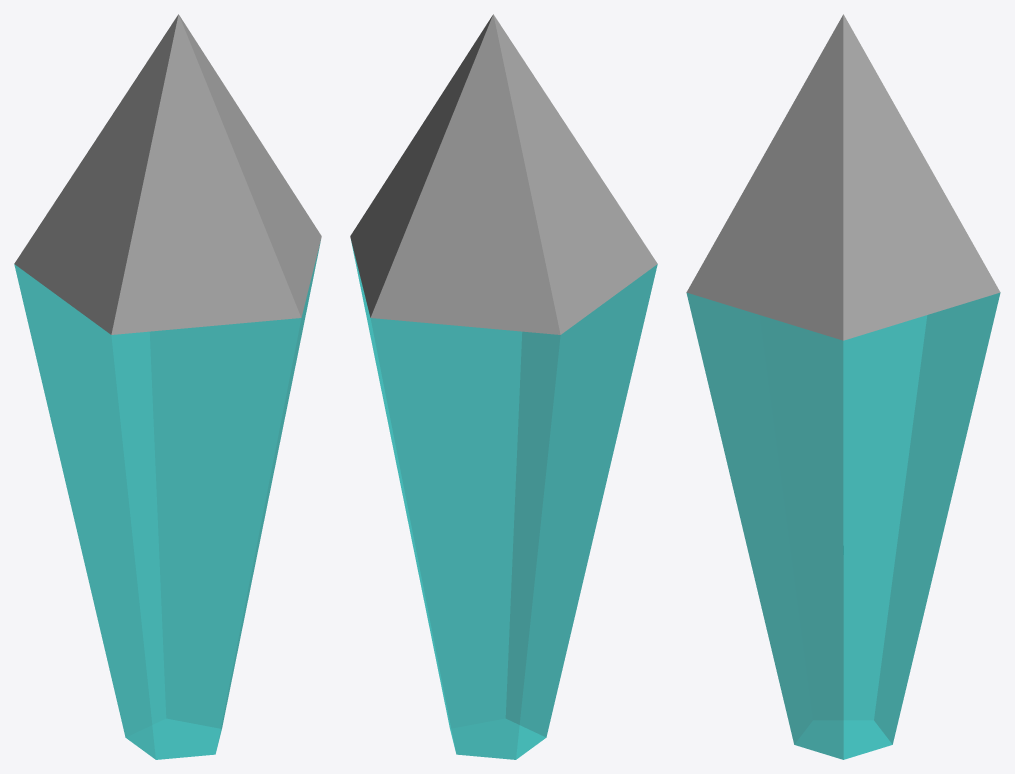
File: LargerSingleCrystal.fbx
3 views of the same model, side by side, from view 1: azimuth 30°, elevation 25°; view 2: azimuth 150°, elevation 25°; view 3: azimuth 270°, elevation 25° (orthographic).
Parts seen in each view (by area): view 1: pPyramid1; view 2: pPyramid1; view 3: pPyramid1.
Boxes of the visible parts, x1,y1,x2,y2 form: pPyramid1: [14, 14, 321, 759]; pPyramid1: [350, 14, 657, 759]; pPyramid1: [686, 14, 1000, 759].
Size of the model in its own units: 2.54 by 6.8 by 2.67.
